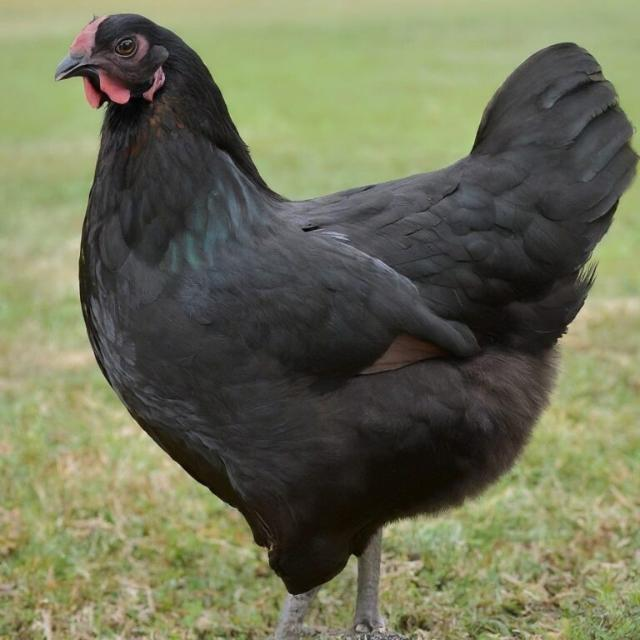Chicken: (52, 12, 640, 640)
